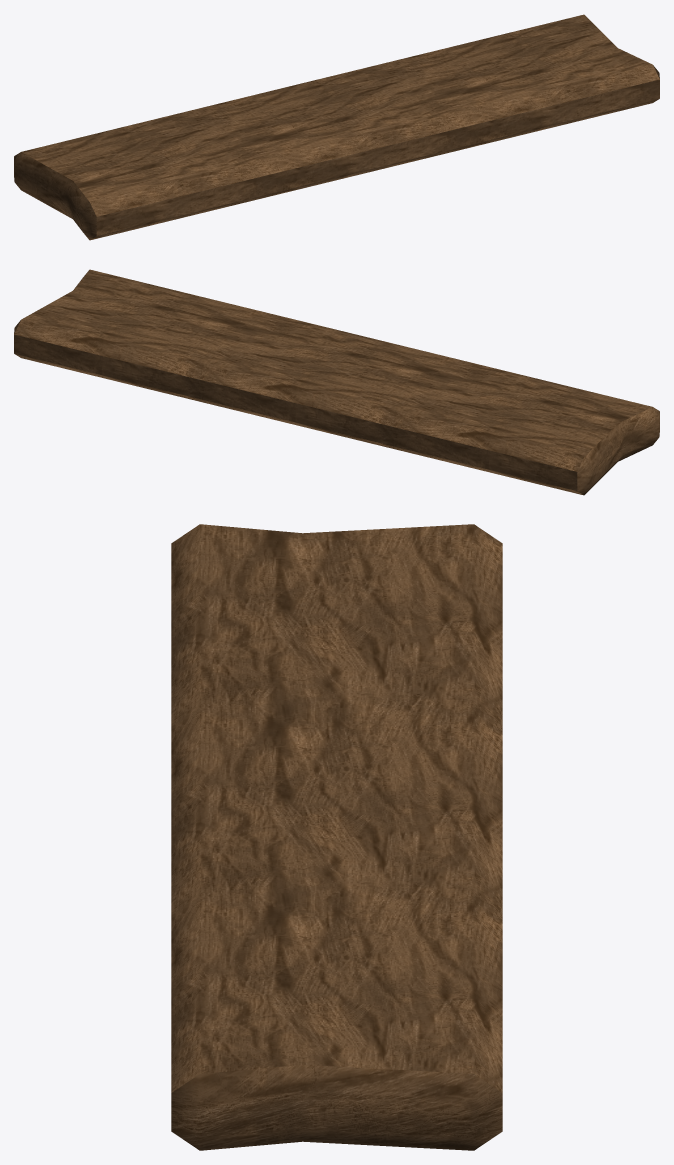
File: WoodenPlank01.fbx
The picture shows the model from 3 angles, top to bottom: view 1: azimuth 30°, elevation 25°; view 2: azimuth 150°, elevation 25°; view 3: azimuth 270°, elevation 25°; orthographic projection. The views are drawn at different scales.
Visible parts, largest first — view 1: WoodenPlank01; view 2: WoodenPlank01; view 3: WoodenPlank01.
Part boxes in pixels (x1,y1,x2,y2): WoodenPlank01: (14,14,659,240); WoodenPlank01: (14,269,659,495); WoodenPlank01: (171,524,502,1150).
Bounding box in the file's own units: 2.09 × 0.1333 × 0.52.
